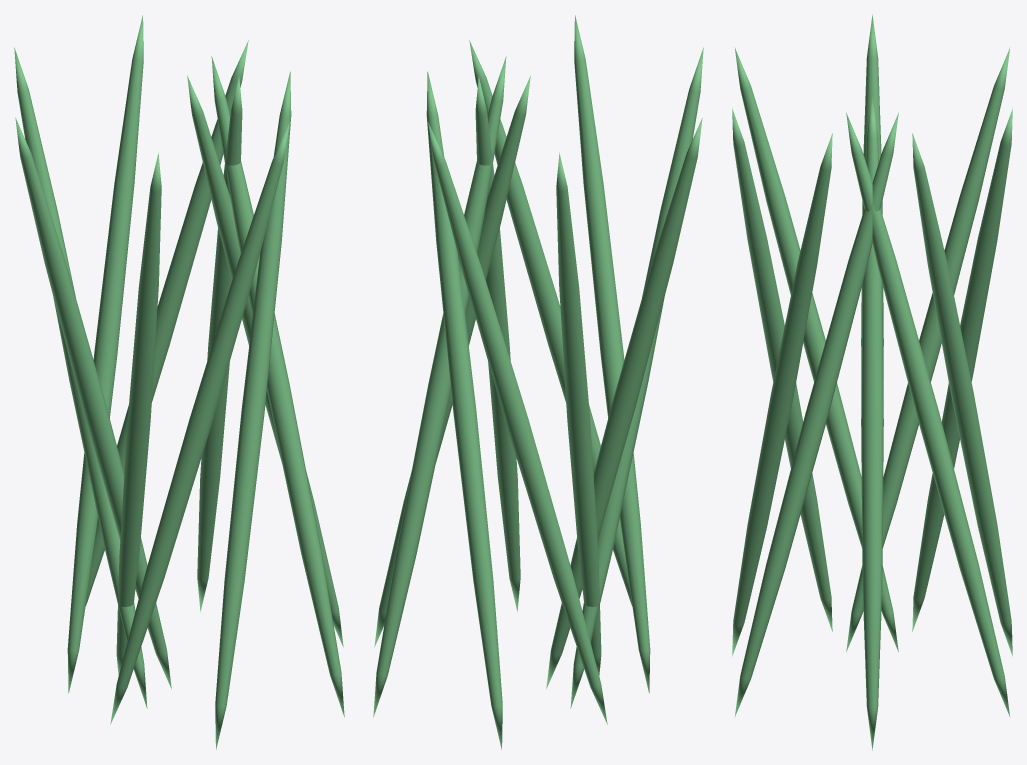
The model's file is env_lake_reed.glb.
3 renders of one model, left to right at view 1: azimuth 30°, elevation 25°; view 2: azimuth 150°, elevation 25°; view 3: azimuth 270°, elevation 25°, orthographic. The views are drawn at different scales.
Parts seen in each view (by area): view 1: ball; view 2: ball; view 3: ball.
Boxes of the visible parts, <box> form: ball: <box>14,15,344,749</box>; ball: <box>373,15,703,749</box>; ball: <box>732,14,1012,750</box>.
Bounding box in the file's own units: 0.9555 × 1.7 × 0.7406.
